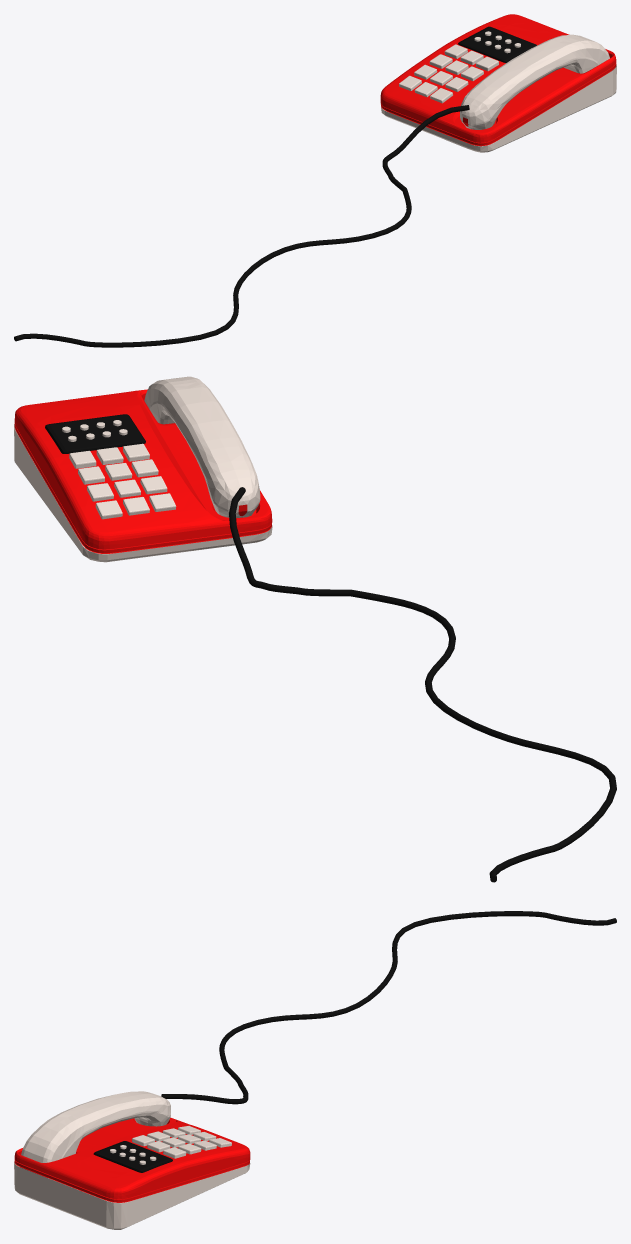
The model's file is Phone.obj.
3 views of the same model, one above another, from view 1: azimuth 90°, elevation 25°; view 2: azimuth 150°, elevation 25°; view 3: azimuth 270°, elevation 25° (orthographic). The views are drawn at different scales.
Parts seen in each view (by area): view 1: F6004BOT0, Line002, Box20191; view 2: F6004BOT0, Line002, Box20191; view 3: F6004BOT0, Line002, Box20191.
Boxes of the visible parts, x1,y1,x2,y2 form: F6004BOT0: (380, 14, 616, 152); Line002: (14, 105, 469, 347); Box20191: (458, 26, 536, 62); F6004BOT0: (14, 376, 272, 562); Line002: (229, 487, 616, 882); Box20191: (45, 414, 145, 453); F6004BOT0: (14, 1091, 250, 1229); Line002: (161, 911, 616, 1104); Box20191: (93, 1141, 172, 1172).
Bounding box in the file's own units: 1659 × 166 × 1381.
